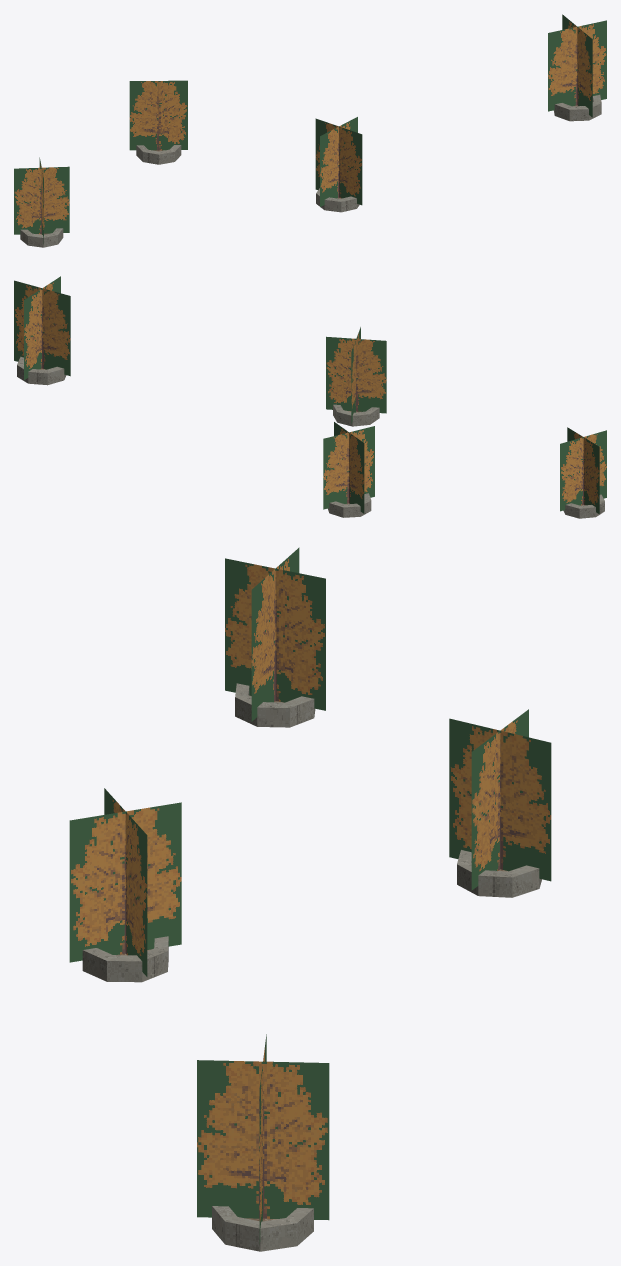
The model's file is procgen-procpain-tree-park-large-x1zm2.obj.
The picture shows the model from 3 angles, top to bottom: view 1: azimuth 30°, elevation 25°; view 2: azimuth 150°, elevation 25°; view 3: azimuth 270°, elevation 25°; orthographic projection. The views are drawn at different scales.
Bounding box in the file's own units: 55.23 × 7.63 × 19.75.
